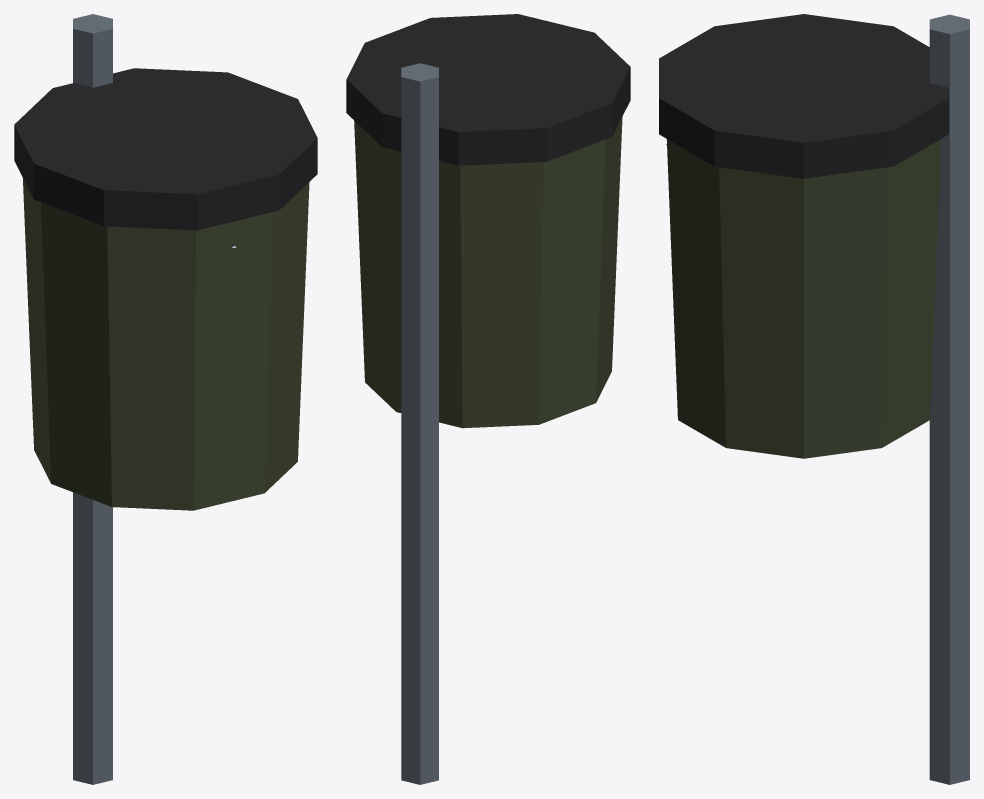
File: trash_can.glb
3 renders of one model, left to right at view 1: azimuth 30°, elevation 25°; view 2: azimuth 150°, elevation 25°; view 3: azimuth 270°, elevation 25°, orthographic. The views are drawn at different scales.
Parts seen in each view (by area): view 1: Prop; view 2: Prop; view 3: Prop.
Part boxes in pixels (x1,y1,x2,y2): Prop: [14, 14, 317, 784]; Prop: [346, 14, 630, 784]; Prop: [659, 14, 969, 784].
Size of the model in its own units: 0.46 by 1.25 by 0.4691.
